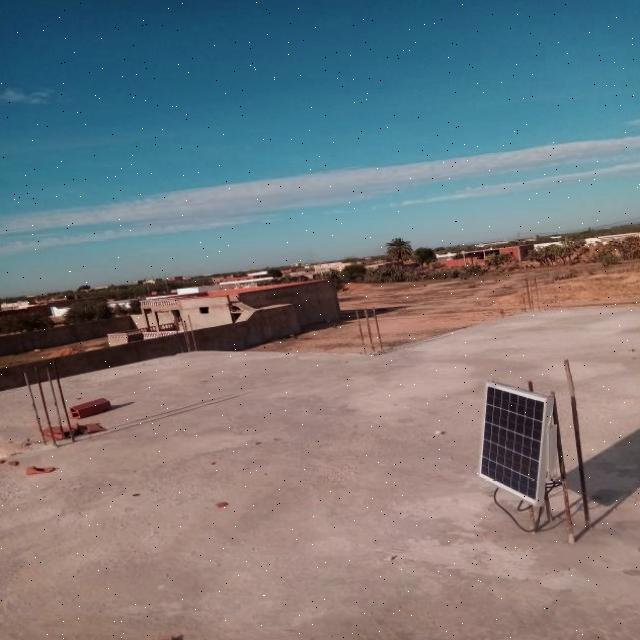Normal Solar Panel: (479, 380, 548, 506)
